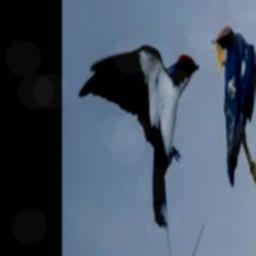Swallow: (79, 43, 200, 227), (212, 25, 256, 185)
